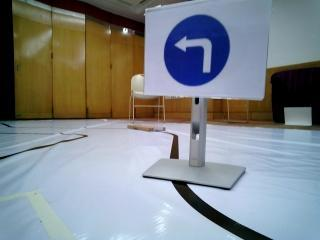left: (149, 8, 263, 95)
